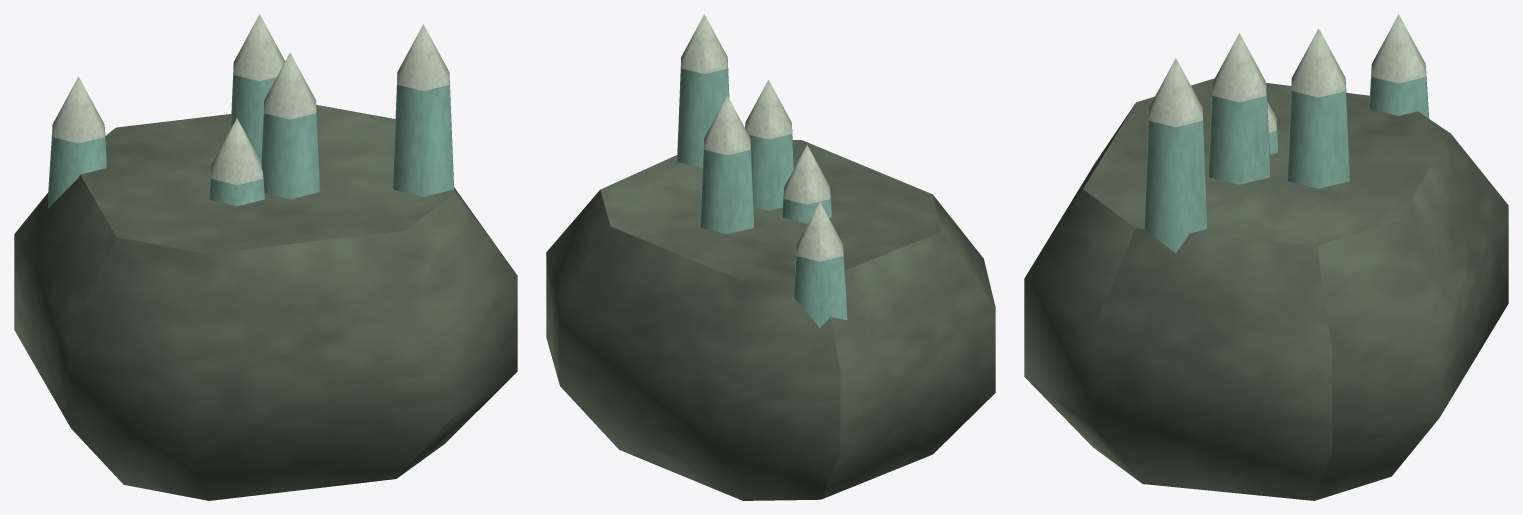
Rendered from ring-glow-quartz-vein-2.fbx.
3 renders of one model, left to right at view 1: azimuth 30°, elevation 25°; view 2: azimuth 150°, elevation 25°; view 3: azimuth 270°, elevation 25°, orthographic. The views are drawn at different scales.
Visible parts, largest first — view 1: ring-glow-quartz-vein-2__Geometry; view 2: ring-glow-quartz-vein-2__Geometry; view 3: ring-glow-quartz-vein-2__Geometry.
Part boxes in pixels (x1,y1,x2,y2): ring-glow-quartz-vein-2__Geometry: (14,14,517,500); ring-glow-quartz-vein-2__Geometry: (546,14,995,500); ring-glow-quartz-vein-2__Geometry: (1024,14,1508,500).
Bounding box in the file's own units: 0.8451 × 0.7503 × 0.7777.
